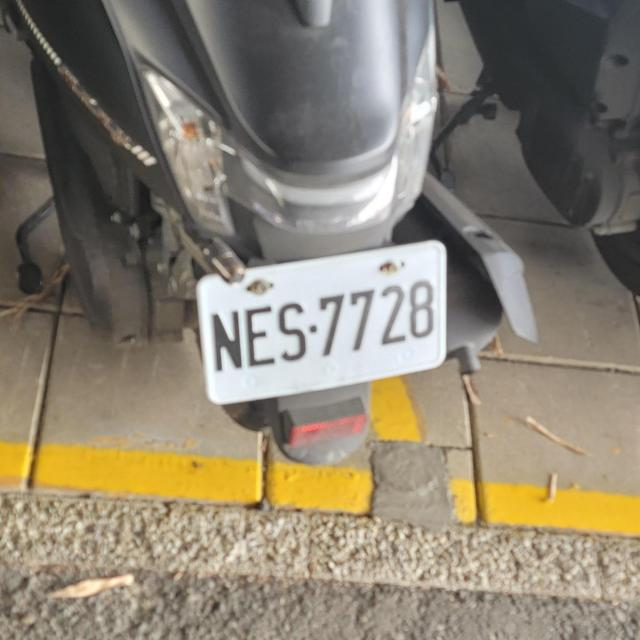W: (185, 236, 458, 410)
